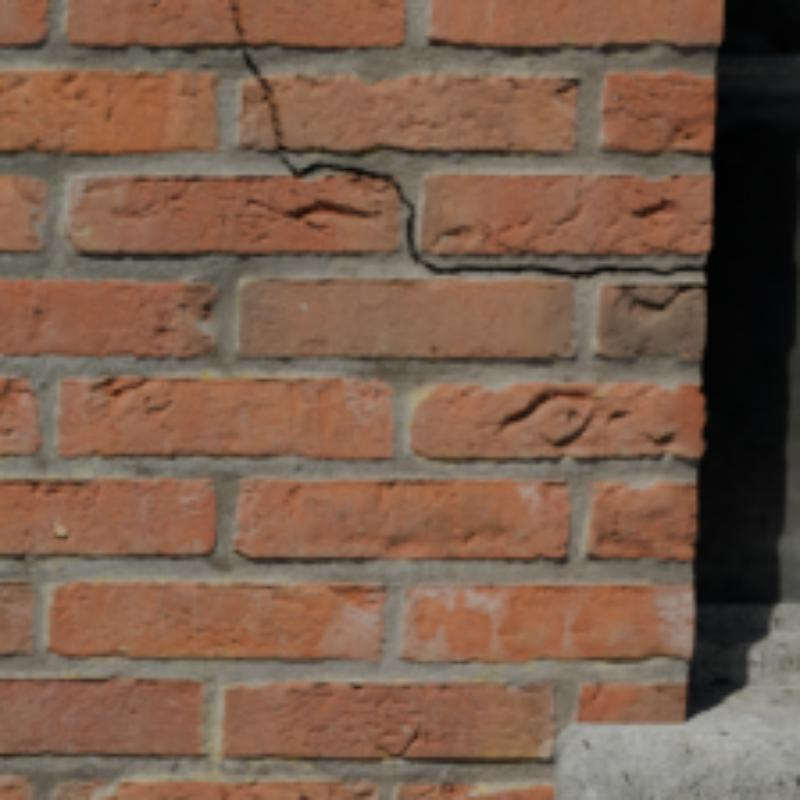crack: (229, 0, 704, 279)
